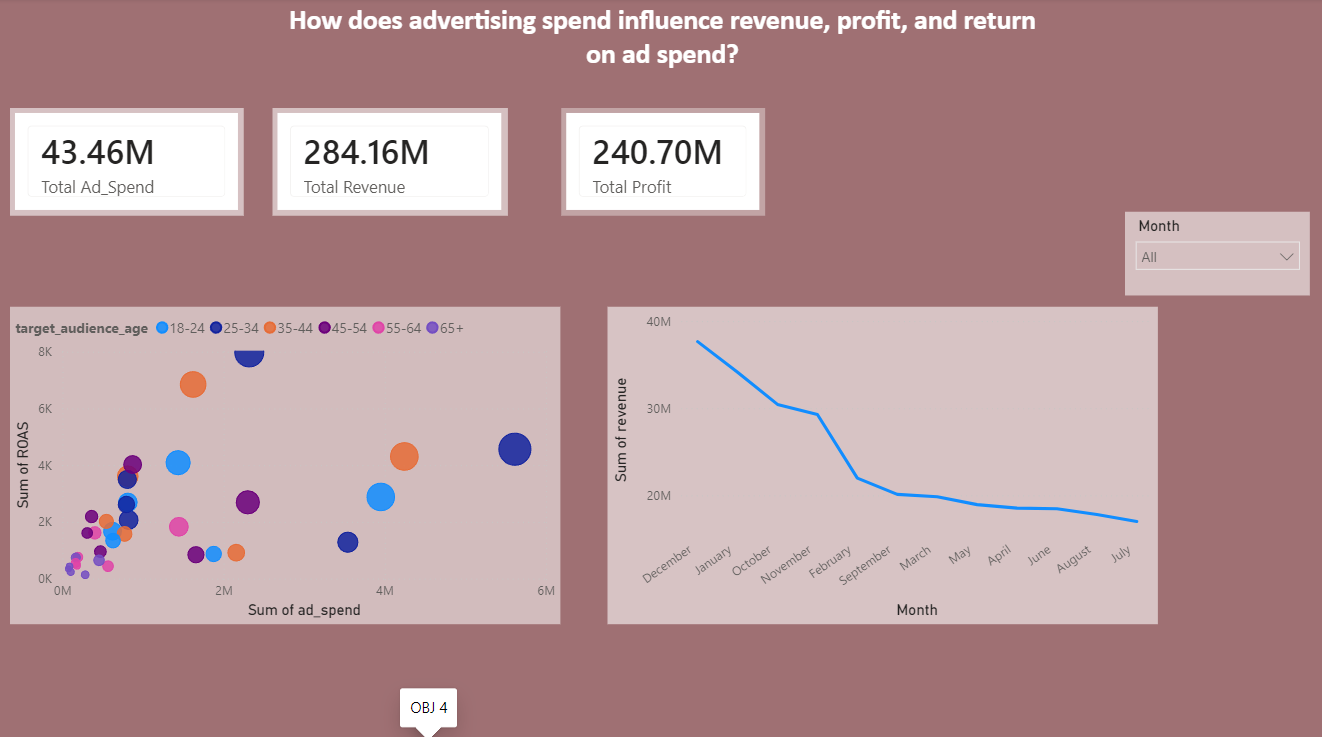

What the dashboard file says about the page in this screenshot:
{"tool":"powerbi","page":{"name":"OBJ 4","canvas":[1280,720],"ordinal":4},"visuals":[{"type":"cardVisual","fields":{"Data":["Tech_Project_Wrk.Total Ad_Spend"]},"box":[9.7,106.2,225.6,103.8],"z":0},{"type":"cardVisual","fields":{"Data":["Tech_Project_Wrk.Total Revenue"]},"box":[263,106.2,226.8,103.8],"z":1000},{"type":"cardVisual","fields":{"Data":["Tech_Project_Wrk.Total Profit"]},"box":[541.7,106.2,196.6,103.8],"z":2000},{"type":"scatterChart","fields":{"Category":["Tech_Project_Wrk.platform"],"Series":["Tech_Project_Wrk.target_audience_age"],"Size":["Sum(Tech_Project_Wrk.revenue)"],"X":["Sum(Tech_Project_Wrk.ad_spend)"],"Y":["Sum(Tech_Project_Wrk.ROAS)"]},"box":[9.7,297.7,531.5,306.1],"z":3000},{"type":"lineChart","fields":{"Category":["Tech_Project_Wrk.Month"],"Y":["Sum(Tech_Project_Wrk.revenue)"]},"box":[585.7,297.7,531.5,306.1],"z":4000},{"type":"slicer","fields":{"Values":["Tech_Project_Wrk.Month"]},"box":[1085.8,206.3,178.6,80.8],"z":8000},{"type":"textbox","box":[263,0,752.7,87.7],"z":9000}]}

Visuals, with their boxes in screenshot pixels (x1, y1, x2, y2), scaled from the page's 1280x720 canvas onto the 1322x737 screenshot:
cardVisual - Tech_Project_Wrk.Total Ad_Spend: detection(10, 109, 243, 215)
cardVisual - Tech_Project_Wrk.Total Revenue: detection(272, 109, 506, 215)
cardVisual - Tech_Project_Wrk.Total Profit: detection(559, 109, 763, 215)
scatterChart - Tech_Project_Wrk.platform x Tech_Project_Wrk.target_audience_age: detection(10, 305, 559, 618)
lineChart - Tech_Project_Wrk.Month x Sum(Tech_Project_Wrk.revenue): detection(605, 305, 1154, 618)
slicer - Tech_Project_Wrk.Month: detection(1121, 211, 1306, 294)
textbox: detection(272, 0, 1049, 90)
